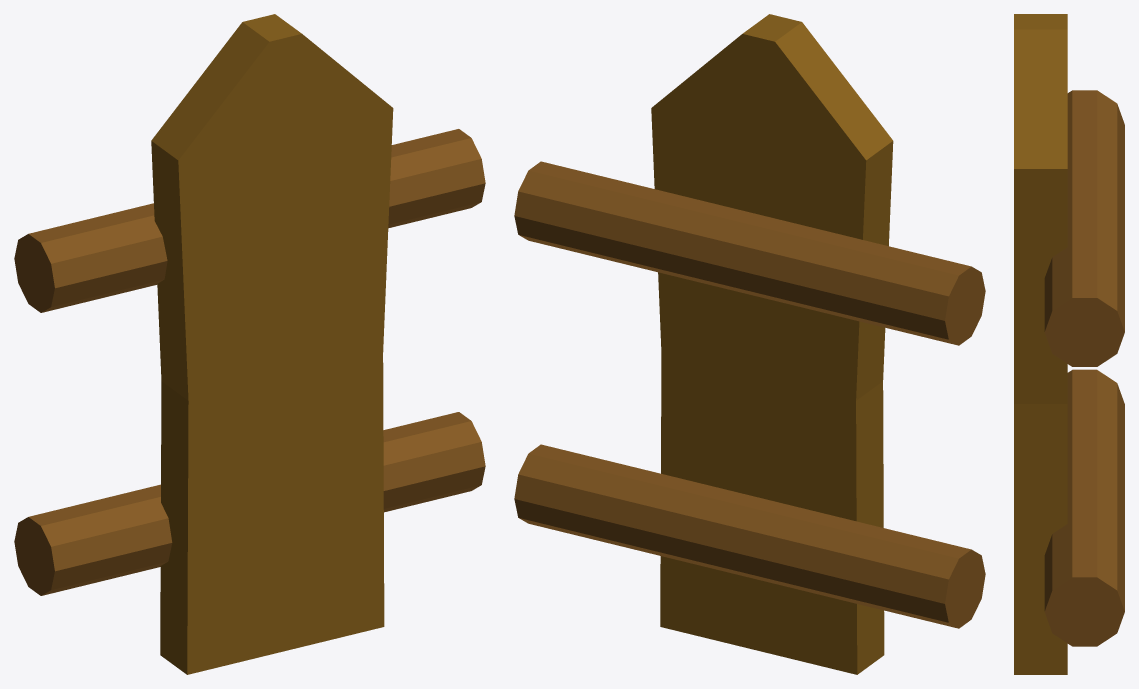
File: Barriere.fbx
3 views of the same model, side by side, from view 1: azimuth 30°, elevation 25°; view 2: azimuth 150°, elevation 25°; view 3: azimuth 270°, elevation 25° (orthographic).
Parts seen in each view (by area): view 1: Barrière en bois; view 2: Barrière en bois; view 3: Barrière en bois.
Boxes of the visible parts, bbox=[...] form: Barrière en bois: bbox=[14, 14, 485, 674]; Barrière en bois: bbox=[514, 14, 985, 674]; Barrière en bois: bbox=[1014, 14, 1124, 674].
Bounding box in the file's own units: 174 × 237 × 39.4.
